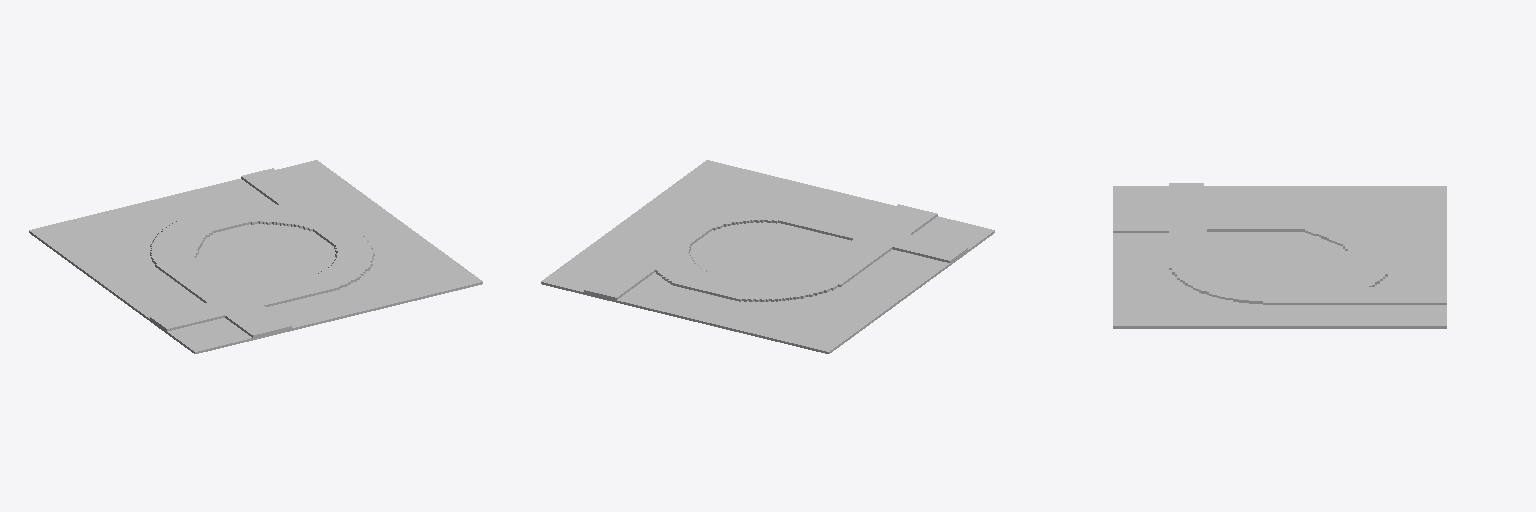
File: map2.obj
3 views of the same model, side by side, from view 1: azimuth 30°, elevation 25°; view 2: azimuth 150°, elevation 25°; view 3: azimuth 270°, elevation 25° (orthographic).
Size of the model in its own units: 125 by 2 by 125.